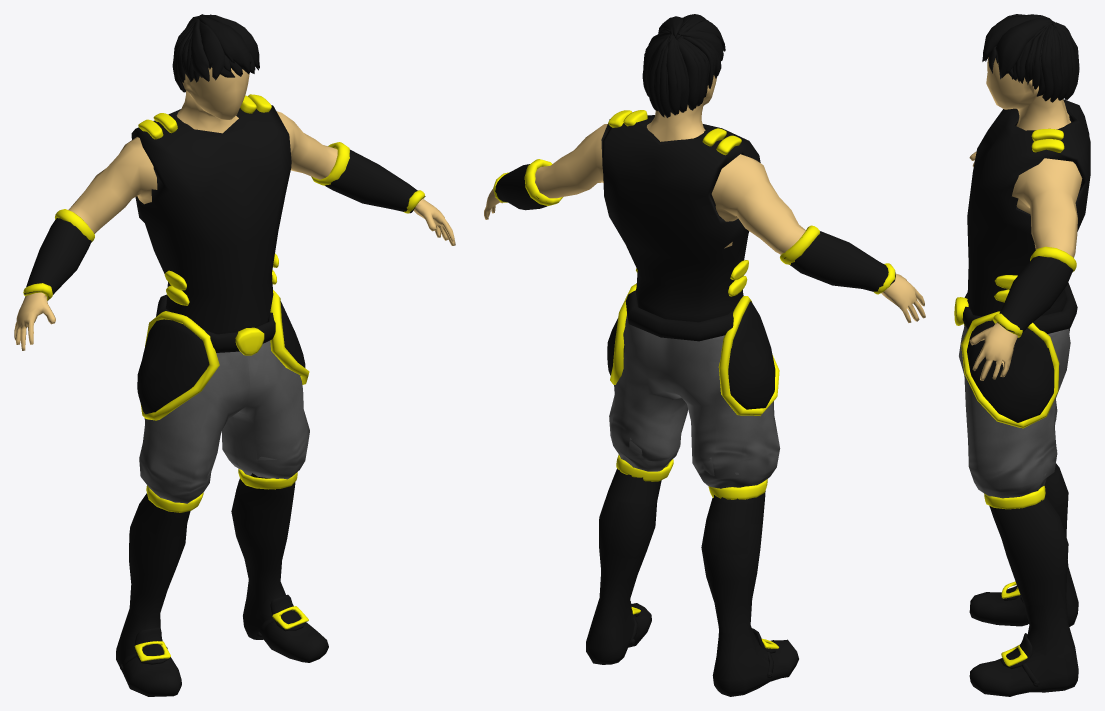
Rendered from export - Copie.fbx.
3 views of the same model, side by side, from view 1: azimuth 30°, elevation 25°; view 2: azimuth 150°, elevation 25°; view 3: azimuth 270°, elevation 25° (orthographic).
Visible parts, largest first — view 1: Shield, Pants, Shoes, export___Copie, Gold_, Arm_shield, Extract22, Hair, Shoe_strings, Belt; view 2: Shield, Shoes, Pants, export___Copie, Gold_, Hair, Arm_shield, Extract22, Belt; view 3: Shoes, Shield, export___Copie, Pants, Hair, Gold_, Extract22, Arm_shield, Belt, Shoe_strings.
Part boxes in pixels (x1,y1,x2,y2): Shield: (131,105,291,334); Pants: (139,340,309,503); Shoes: (116,473,328,696); export___Copie: (14,67,455,350); Gold_: (23,94,424,661); Arm_shield: (24,149,425,300); Extract22: (137,301,305,414); Hair: (172,14,259,92); Shoe_strings: (120,594,305,670); Belt: (156,294,275,352); Shield: (601,115,760,322); Shoes: (586,466,798,696); Pants: (609,314,780,488); export___Copie: (484,75,925,322); Gold_: (493,110,895,648); Hair: (642,14,725,117); Arm_shield: (495,164,895,291); Extract22: (607,301,775,409); Belt: (625,290,743,341); Shoes: (969,463,1078,696); Shield: (967,99,1090,316); export___Copie: (969,57,1082,380); Pants: (959,324,1070,498); Hair: (982,14,1079,102); Gold_: (954,128,1076,666); Extract22: (967,320,1054,422); Arm_shield: (997,256,1073,333); Belt: (962,282,1077,333); Shoe_strings: (1000,585,1040,686).
Bounding box in the file's own units: 136 × 37.45 × 193.
10 materials, 10 textured.
